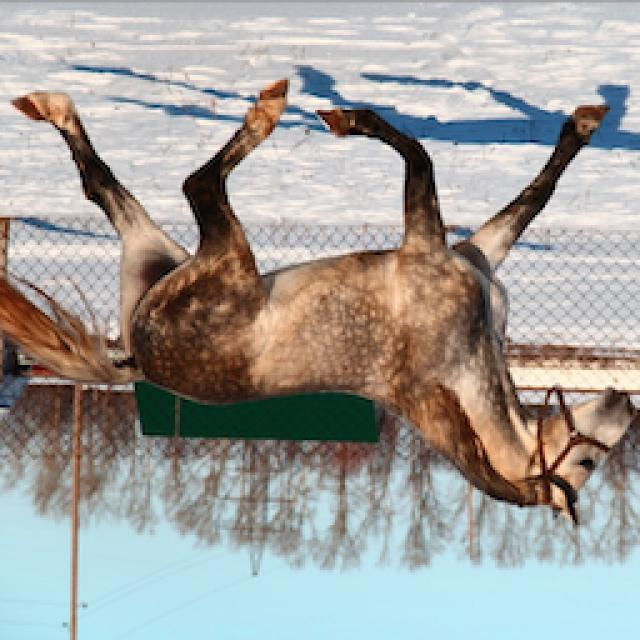Horse: (0, 75, 638, 533)
